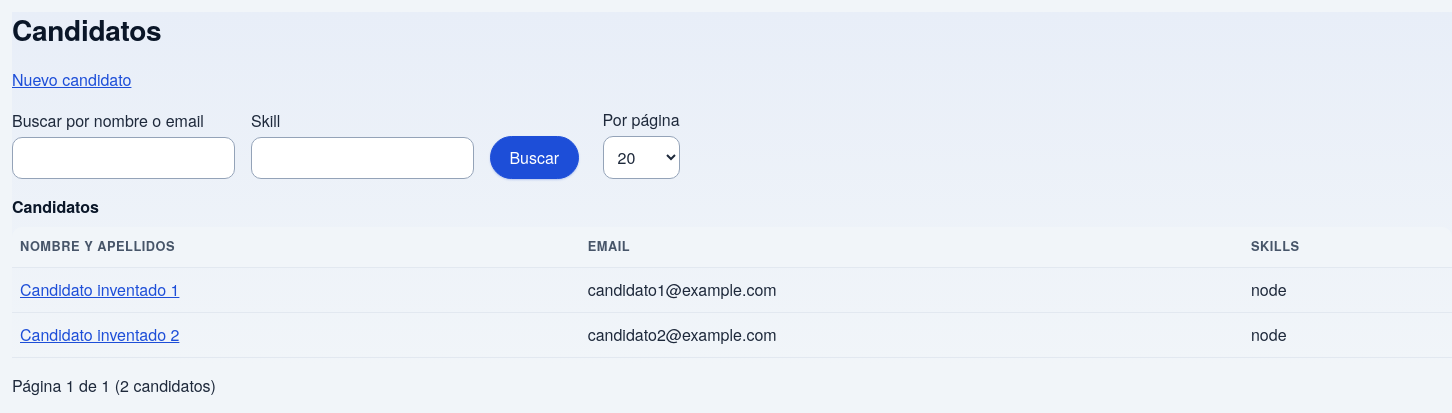
Test case: CandidateListScreen · estados y tabla › CA-21 / EC-30 red caída: alerta, «Reintentar» repite la misma URL y los campos conservan lo escrito
Expected: the table "Candidatos" is shown, x1=12 y1=195 x2=1451 y2=358
Type "lucia" into the search field labelled "Buscar por nombre o email" at coordinates (124, 158), box x1=12 y1=137 x2=235 y2=179
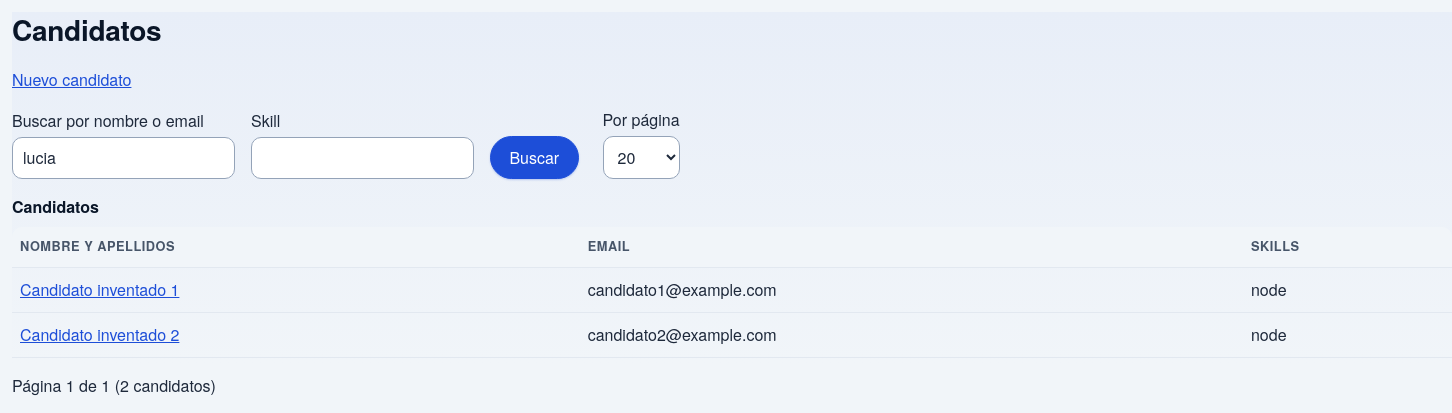
Type "SQL" into the search field labelled "Skill" at coordinates (362, 158), box x1=251 y1=137 x2=474 y2=179
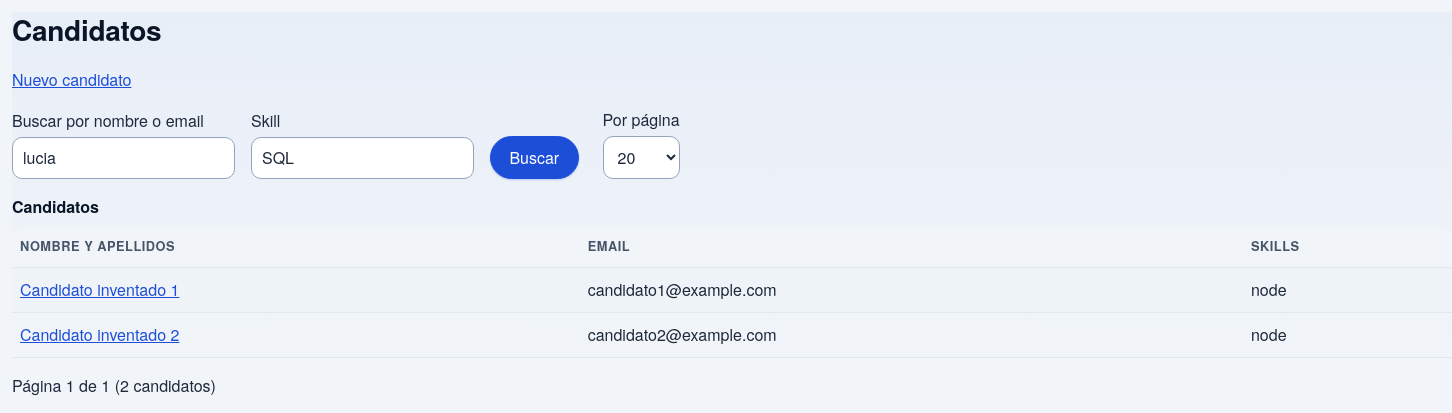
Click the button "Buscar" at coordinates (534, 158), box x1=490 y1=136 x2=579 y2=179
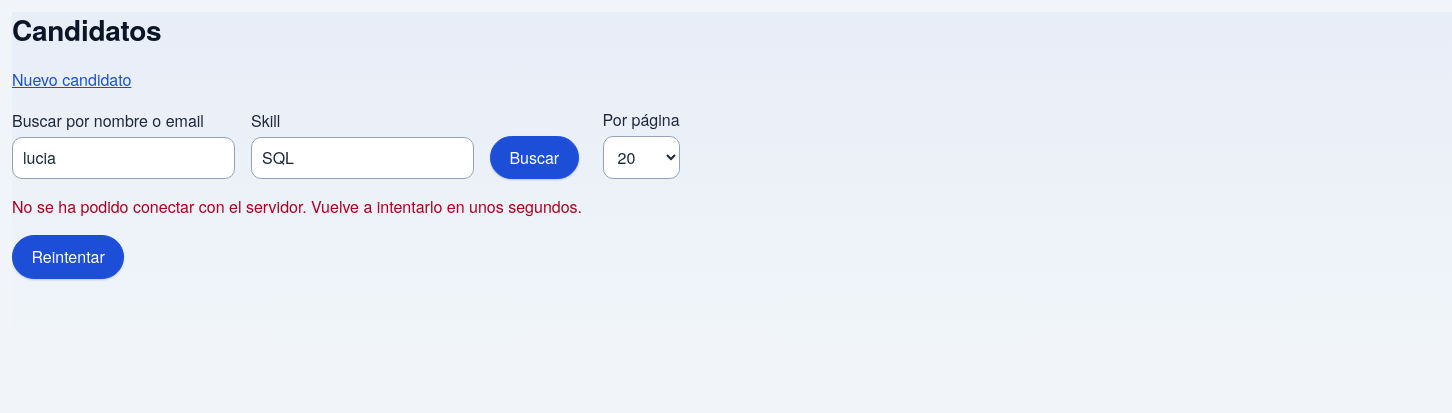
Result: the message reads "No se ha podido conectar con el servidor. Vuelve a intentarlo en unos segundos." at x1=12 y1=195 x2=582 y2=218
Result: the table is gone
Click the button "Reintentar" at coordinates (68, 257), box x1=12 y1=235 x2=124 y2=279
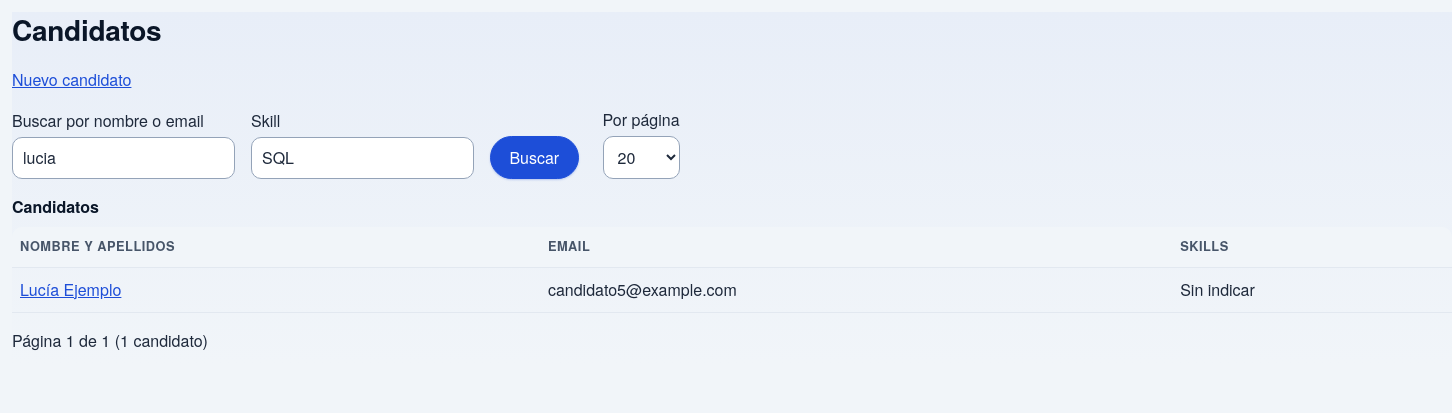
Result: the link "Lucía Ejemplo" is shown at x1=20 y1=278 x2=121 y2=301
